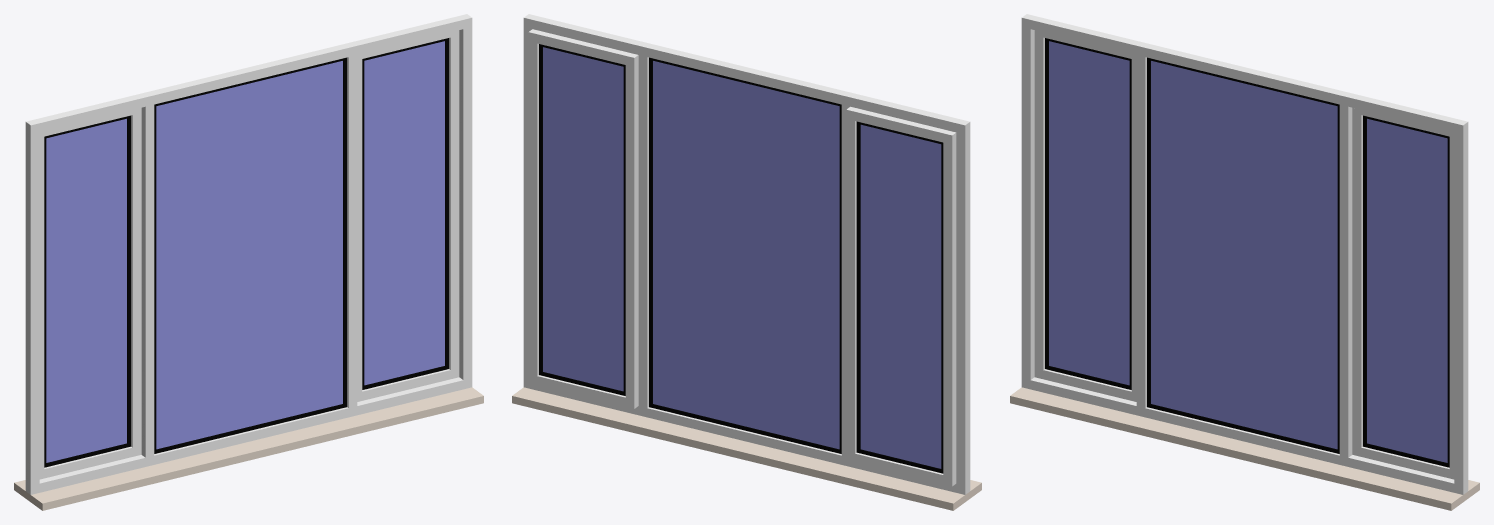
The model's file is VentanaGrande.fbx.
The picture shows the model from 3 angles, left to right: view 1: azimuth 30°, elevation 25°; view 2: azimuth 150°, elevation 25°; view 3: azimuth 330°, elevation 25°; orthographic projection.
Visible parts, largest first — view 1: Window; view 2: Window; view 3: Window.
Part boxes in pixels (x1,y1,x2,y2): Window: (14, 14, 483, 510); Window: (512, 14, 981, 510); Window: (1010, 14, 1479, 510).
Bounding box in the file's own units: 2.5 × 2.04 × 0.28.
